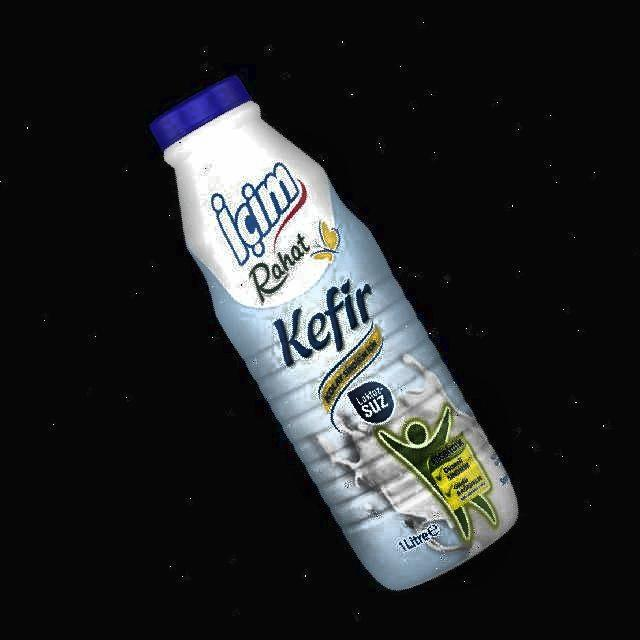plastic: (151, 78, 518, 589)
